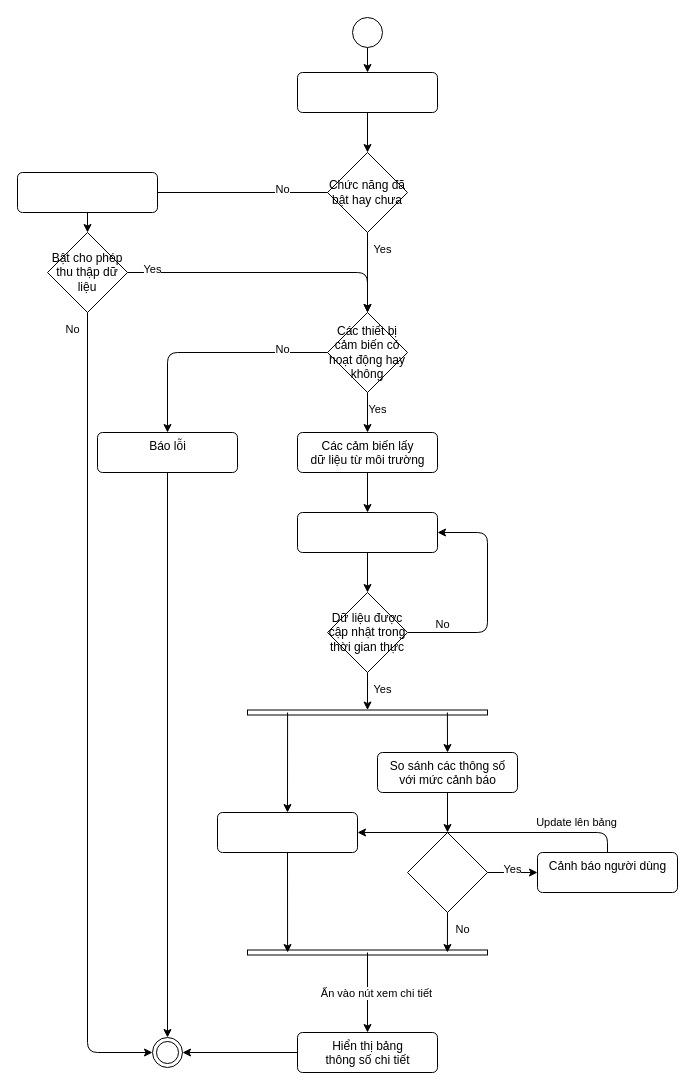
The diagram is 695 pixels wide and 1090 high, and some of its shapes have lost their labels. Each missing label, with the centre of its shape:
Các thông số vượt quá ngưỡng cho phép: the point at 447,872
Fetch dữ liệu từ server: the point at 367,532
Hiển thị bảng các thông số: the point at 287,832
Hiển thị giao diện setting: the point at 87,192
Nhấn nút Môi trường xung quanh: the point at 367,92
